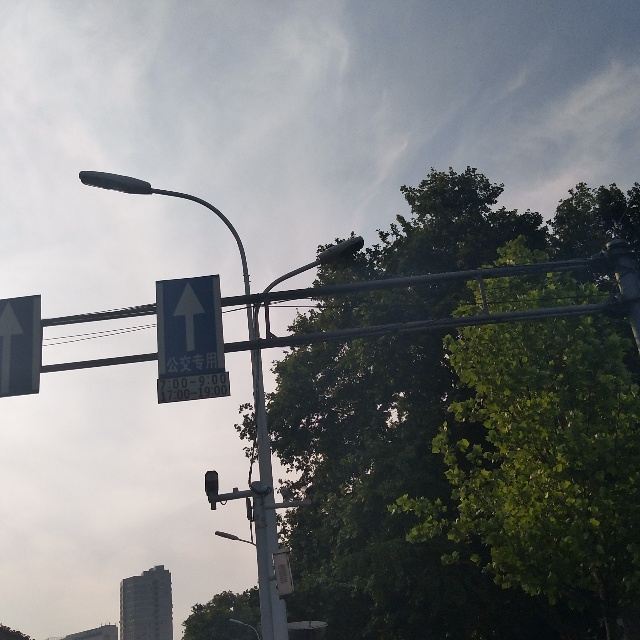straight: (164, 280, 222, 361), (1, 299, 40, 397)
